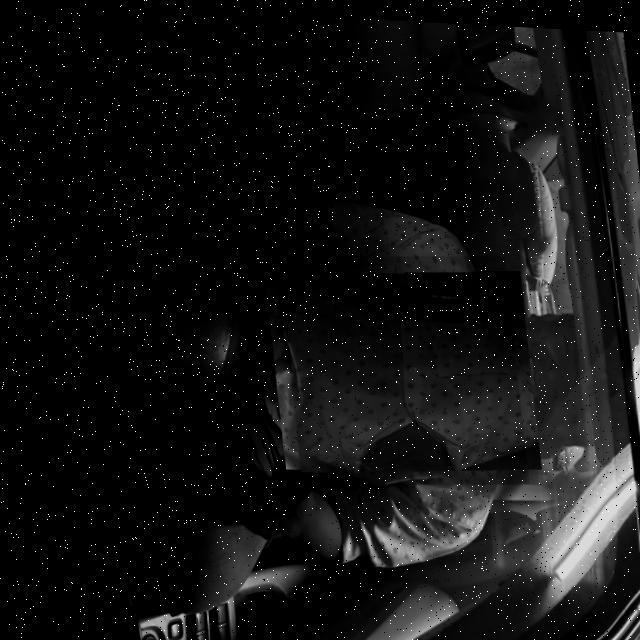no-seatbelt: (273, 241, 524, 490)
